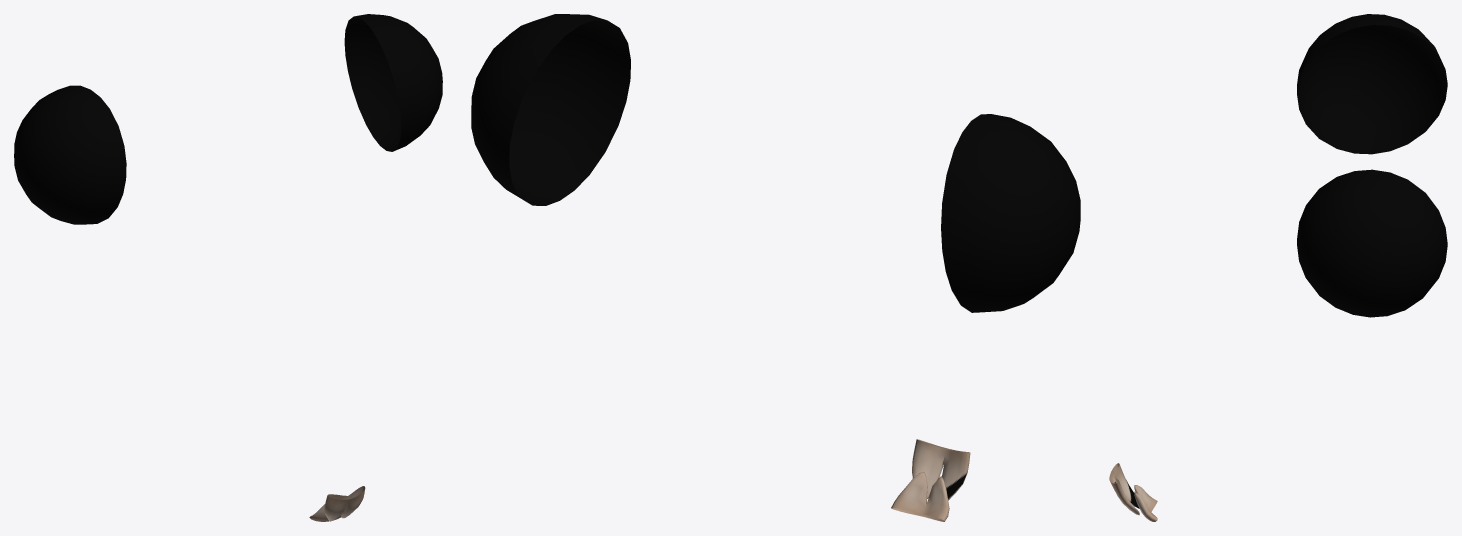
Rendered from rigged-rat.fbx.
3 renders of one model, left to right at view 1: azimuth 30°, elevation 25°; view 2: azimuth 150°, elevation 25°; view 3: azimuth 270°, elevation 25°, orthographic. The views are drawn at different scales.
Parts seen in each view (by area): view 1: eyes_teeth; view 2: eyes_teeth; view 3: eyes_teeth.
Boxes of the visible parts, <box> form: eyes_teeth: <box>14,14,442,521</box>; eyes_teeth: <box>471,14,1080,521</box>; eyes_teeth: <box>1109,14,1447,521</box>.
Size of the model in its own units: 59.94 by 54.31 by 39.8.
1 material, 1 textured.
